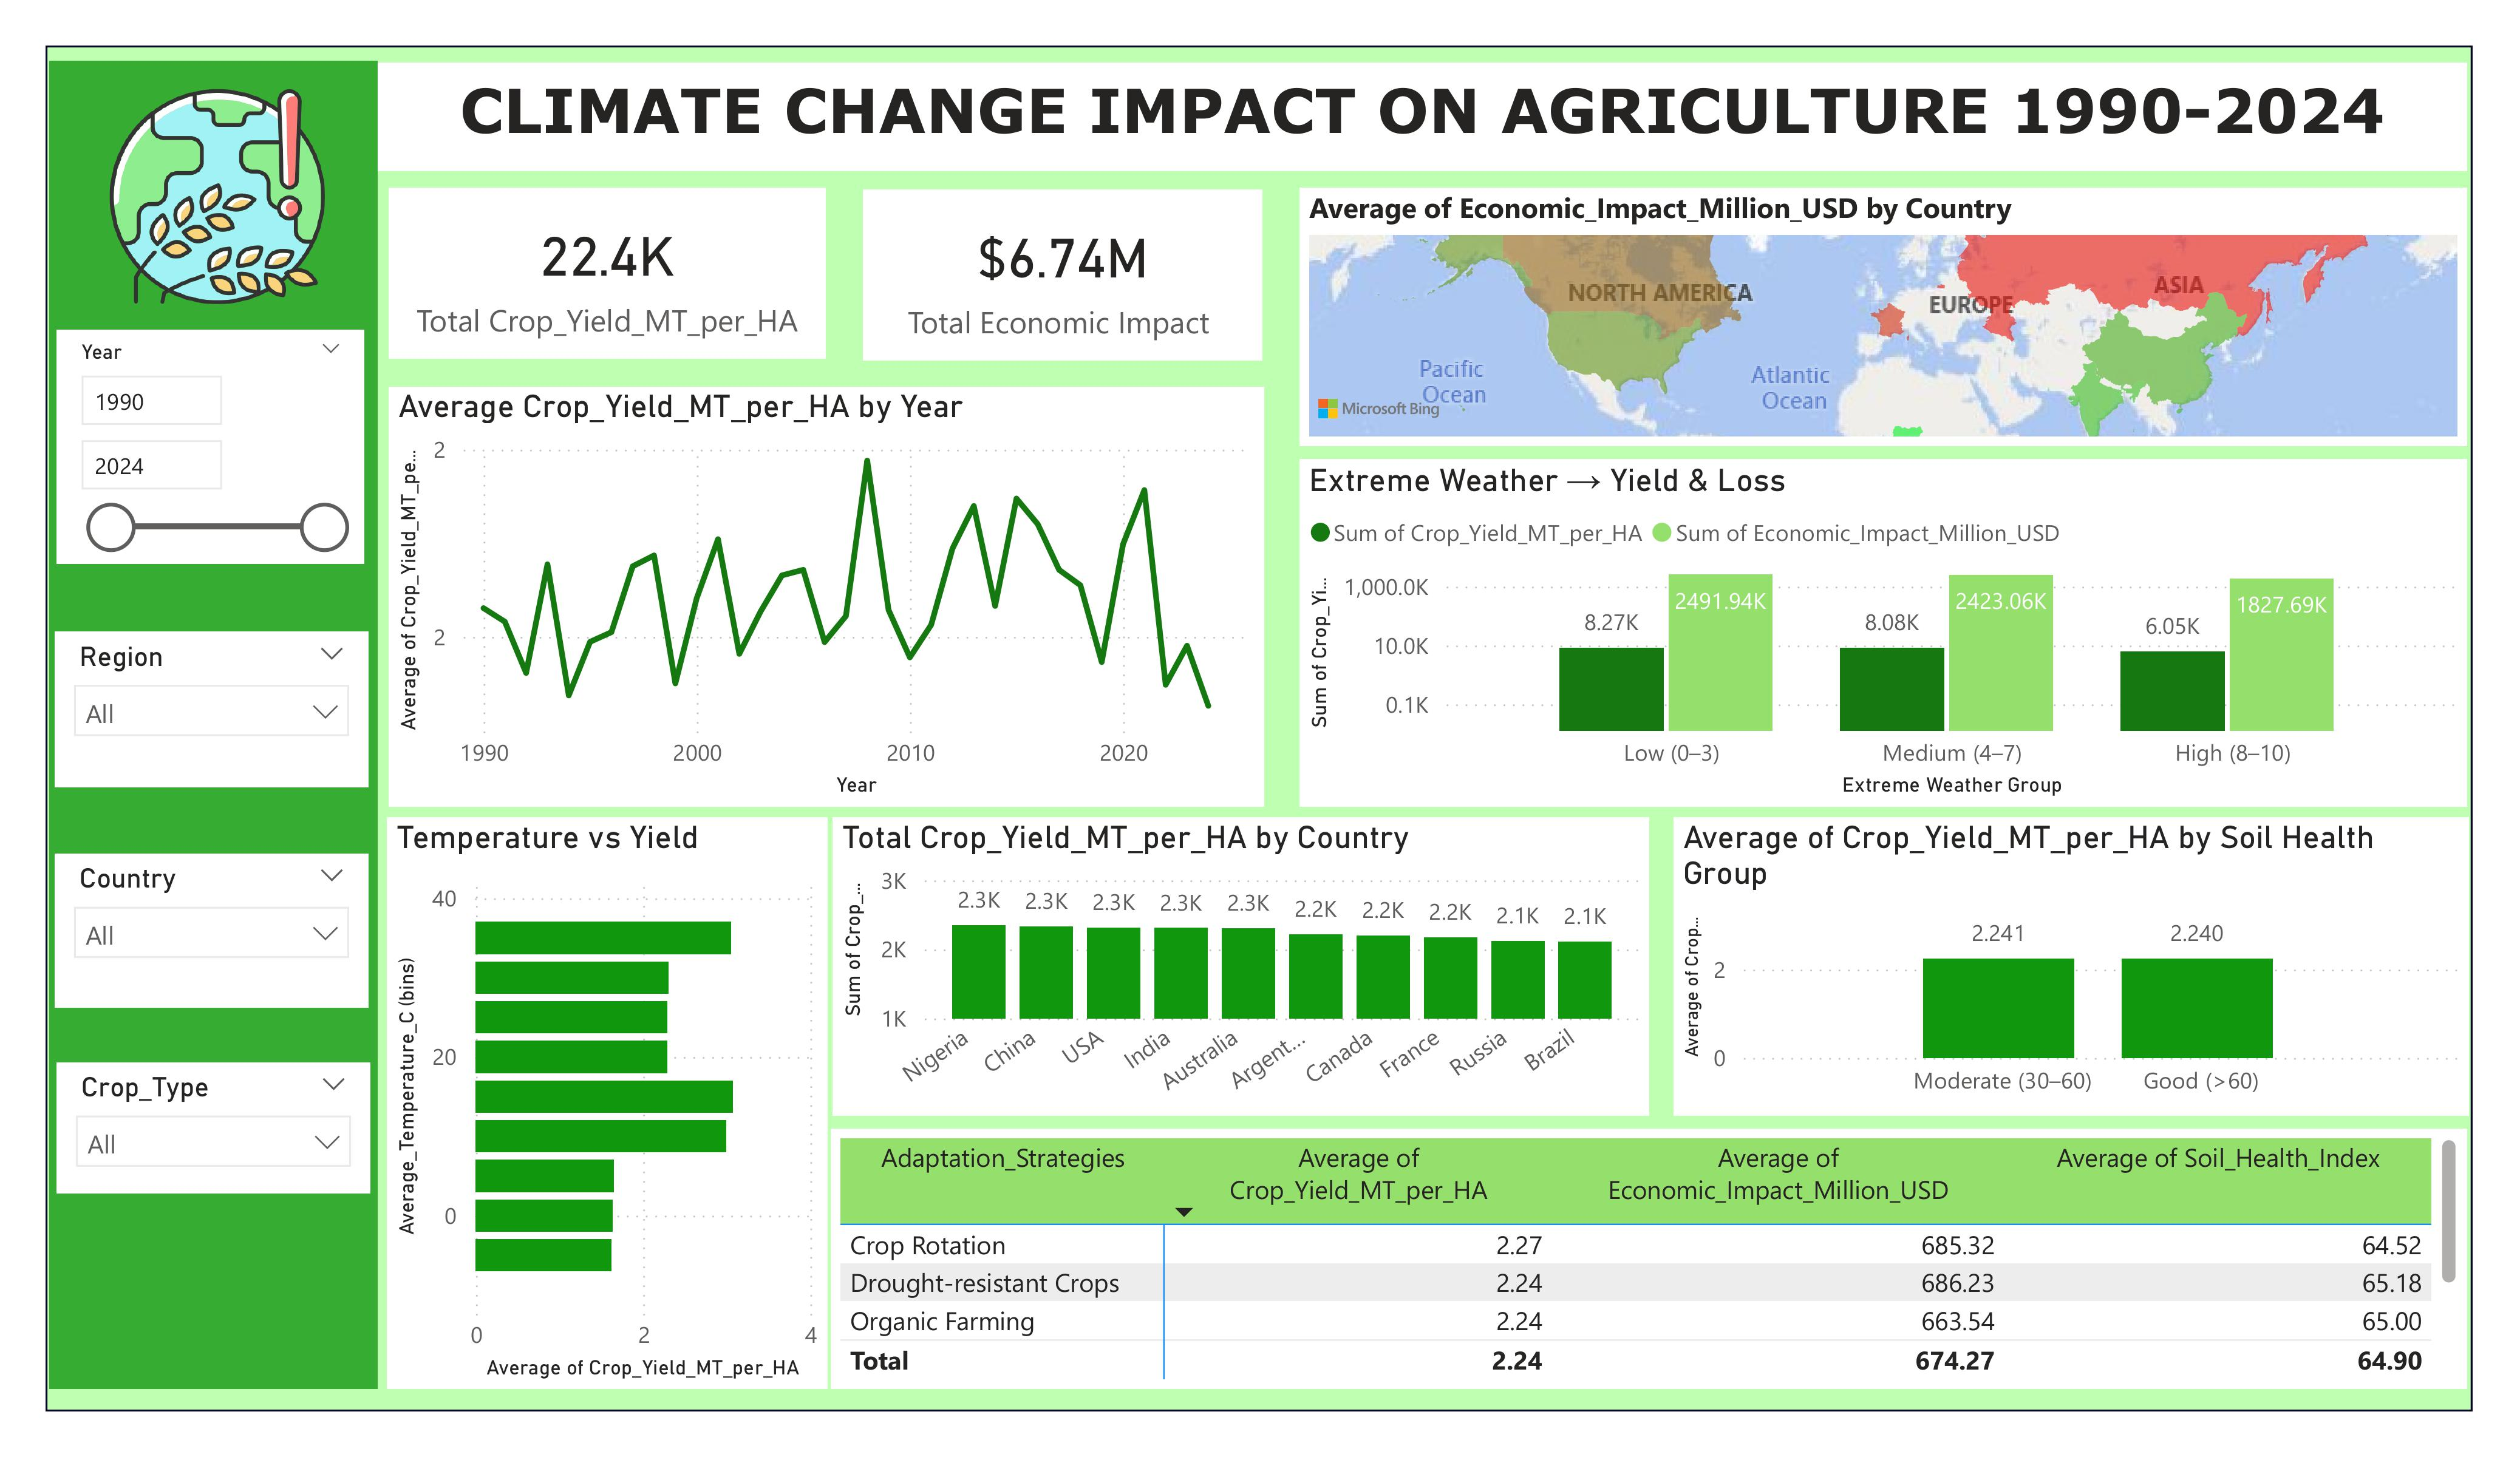

The dashboard page shown, as its layout file describes it:
{"tool":"powerbi","page":{"name":"Overview","canvas":[1280,720],"ordinal":0},"visuals":[{"type":"shape","box":[0,0,1278.8,720.2],"z":0},{"type":"textbox","box":[175,8.8,1101.2,57.5],"z":1000},{"type":"shape","box":[2.4,8.4,172.5,699.7],"z":2000},{"type":"lineChart","title":"Average Crop_Yield_MT_per_HA by Year","fields":{"Y":["Avg(climate_change_impact_on_agriculture_2024.Crop_Yield_MT_per_HA)"],"Category":["climate_change_impact_on_agriculture_2024.Year"]},"box":[181,179.8,460.9,220.8],"z":3000},{"type":"slicer","fields":{"Values":["climate_change_impact_on_agriculture_2024.Crop_Type"]},"box":[5.9,536.5,164.6,68.7],"z":4000},{"type":"slicer","fields":{"Values":["climate_change_impact_on_agriculture_2024.Year"]},"box":[6.3,150,161.3,122.5],"z":5000},{"type":"filledMap","fields":{"Category":["climate_change_impact_on_agriculture_2024.Country"]},"box":[661.1,74.8,615.3,136.3],"z":6000},{"type":"pivotTable","fields":{"Rows":["climate_change_impact_on_agriculture_2024.Adaptation_Strategies"],"Values":["Avg(climate_change_impact_on_agriculture_2024.Crop_Yield_MT_per_HA)","Avg(climate_change_impact_on_agriculture_2024.Economic_Impact_Million_USD)","Avg(climate_change_impact_on_agriculture_2024.Soil_Health_Index)"]},"box":[414,570.9,861.6,137.2],"z":7000},{"type":"image","box":[0,9.3,181.4,140.7],"z":8000},{"type":"slicer","fields":{"Values":["climate_change_impact_on_agriculture_2024.Region"]},"box":[5,308.8,165,82.5],"z":9000},{"type":"clusteredColumnChart","title":"Total Crop_Yield_MT_per_HA by Country","fields":{"Category":["climate_change_impact_on_agriculture_2024.Country"],"Y":["Sum(climate_change_impact_on_agriculture_2024.Crop_Yield_MT_per_HA)"]},"box":[415.1,407,430.2,157],"z":10000},{"type":"card","fields":{"Values":["Sum(climate_change_impact_on_agriculture_2024.Crop_Yield_MT_per_HA)"]},"box":[181.3,75,230,90],"z":11000},{"type":"card","fields":{"Values":["Sum(climate_change_impact_on_agriculture_2024.Economic_Impact_Million_USD)"]},"box":[431.3,76.3,210,90],"z":12000},{"type":"clusteredColumnChart","title":"Extreme Weather → Yield & Loss","fields":{"Category":["climate_change_impact_on_agriculture_2024.Extreme Weather Group"],"Y":["Sum(climate_change_impact_on_agriculture_2024.Crop_Yield_MT_per_HA)","Sum(climate_change_impact_on_agriculture_2024.Economic_Impact_Million_USD)"]},"box":[661.1,218.4,615.3,182.2],"z":13000},{"type":"clusteredBarChart","title":"Temperature vs Yield","fields":{"Category":["climate_change_impact_on_agriculture_2024.Average_Temperature_C (bins)"],"Y":["Avg(climate_change_impact_on_agriculture_2024.Crop_Yield_MT_per_HA)"]},"box":[180.2,407,231.4,301.2],"z":14000},{"type":"clusteredColumnChart","fields":{"Category":["climate_change_impact_on_agriculture_2024.Soil Health Group"],"Y":["Avg(climate_change_impact_on_agriculture_2024.Crop_Yield_MT_per_HA)"]},"box":[858.1,407,418.6,157],"z":15000},{"type":"slicer","fields":{"Values":["climate_change_impact_on_agriculture_2024.Country"]},"box":[4.8,425.9,165.3,80.8],"z":16000}]}

Visuals, with their boxes on the page's 1280x720 design canvas (x1, y1, x2, y2). These are canvas units, not pixel positions in the 2520x1457 screenshot, which may show the page scaled, cropped or inside an application window:
shape: x1=0, y1=0, x2=1279, y2=720
textbox: x1=175, y1=9, x2=1276, y2=66
shape: x1=2, y1=8, x2=175, y2=708
"Average Crop_Yield_MT_per_HA by Year" lineChart: x1=181, y1=180, x2=642, y2=401
slicer - climate_change_impact_on_agriculture_2024.Crop_Type: x1=6, y1=536, x2=170, y2=605
slicer - climate_change_impact_on_agriculture_2024.Year: x1=6, y1=150, x2=168, y2=272
filledMap - climate_change_impact_on_agriculture_2024.Country: x1=661, y1=75, x2=1276, y2=211
pivotTable - climate_change_impact_on_agriculture_2024.Adaptation_Strategies x Avg(climate_change_impact_on_agriculture_2024.Crop_Yield_MT_per_HA): x1=414, y1=571, x2=1276, y2=708
image: x1=0, y1=9, x2=181, y2=150
slicer - climate_change_impact_on_agriculture_2024.Region: x1=5, y1=309, x2=170, y2=391
"Total Crop_Yield_MT_per_HA by Country" clusteredColumnChart: x1=415, y1=407, x2=845, y2=564
card - Sum(climate_change_impact_on_agriculture_2024.Crop_Yield_MT_per_HA): x1=181, y1=75, x2=411, y2=165
card - Sum(climate_change_impact_on_agriculture_2024.Economic_Impact_Million_USD): x1=431, y1=76, x2=641, y2=166
"Extreme Weather → Yield & Loss" clusteredColumnChart: x1=661, y1=218, x2=1276, y2=401
"Temperature vs Yield" clusteredBarChart: x1=180, y1=407, x2=412, y2=708
clusteredColumnChart - climate_change_impact_on_agriculture_2024.Soil Health Group x Avg(climate_change_impact_on_agriculture_2024.Crop_Yield_MT_per_HA): x1=858, y1=407, x2=1277, y2=564
slicer - climate_change_impact_on_agriculture_2024.Country: x1=5, y1=426, x2=170, y2=507
